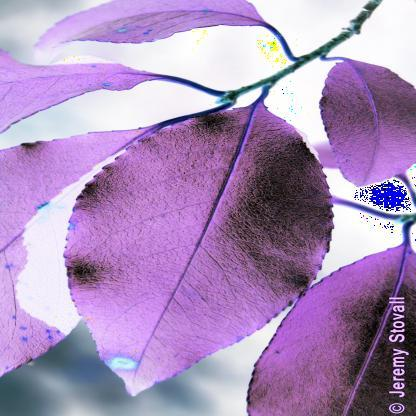Cherry leaf: (47, 87, 346, 396), (8, 0, 286, 53), (318, 58, 414, 190)
